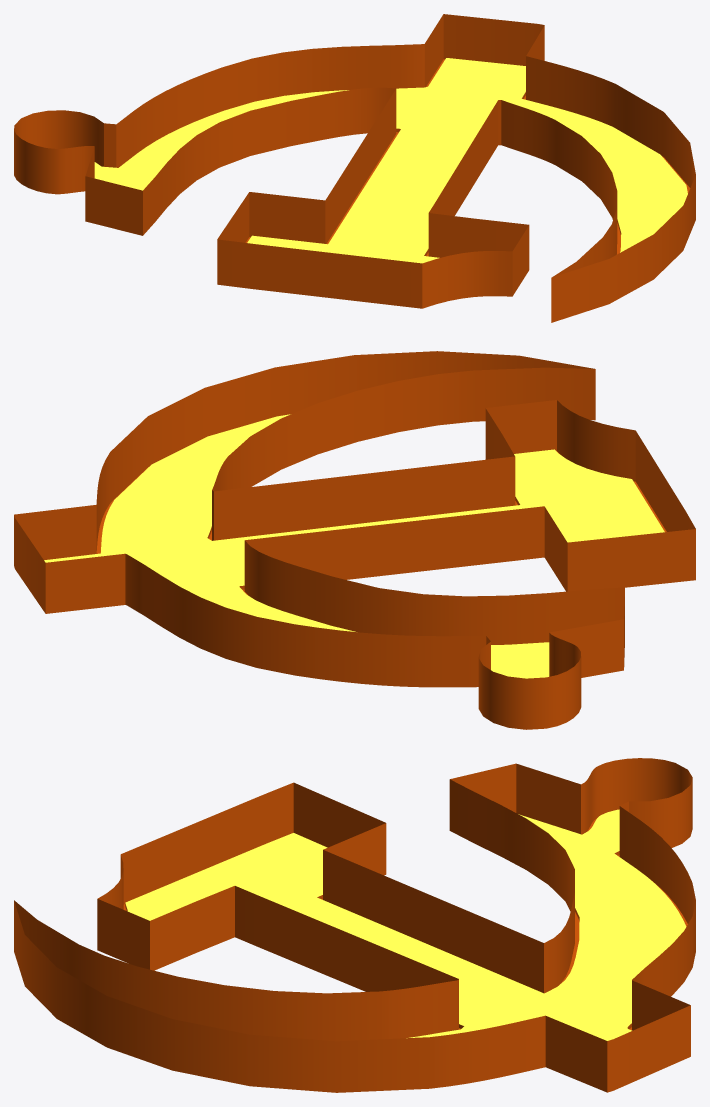
3 renders of one model, top to bottom at view 1: azimuth 30°, elevation 25°; view 2: azimuth 150°, elevation 25°; view 3: azimuth 270°, elevation 25°, orthographic. The views are drawn at different scales.
Visible parts, largest first — view 1: 党徽; view 2: 党徽; view 3: 党徽.
Part boxes in pixels (x1,y1,x2,y2): 党徽: (14, 14, 695, 322); 党徽: (14, 351, 695, 729); 党徽: (14, 758, 695, 1092).
Size of the model in its own units: 99.24 by 8.43 by 101.
